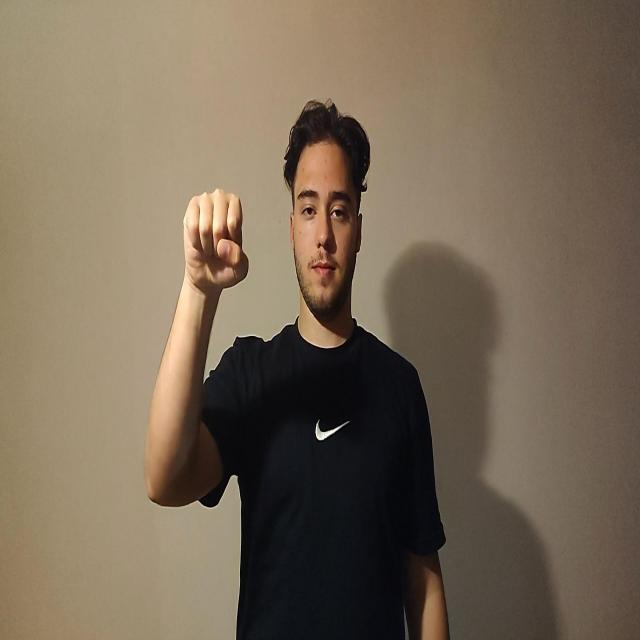yes: (182, 187, 249, 295)
